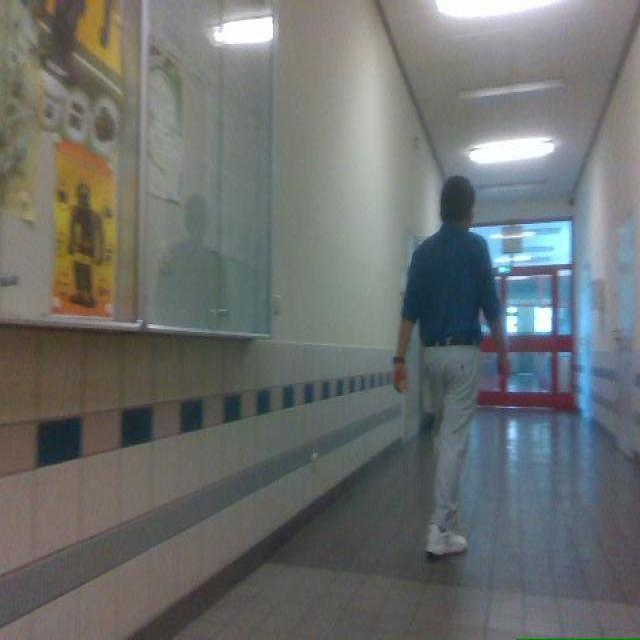humans: (393, 176, 508, 555)
